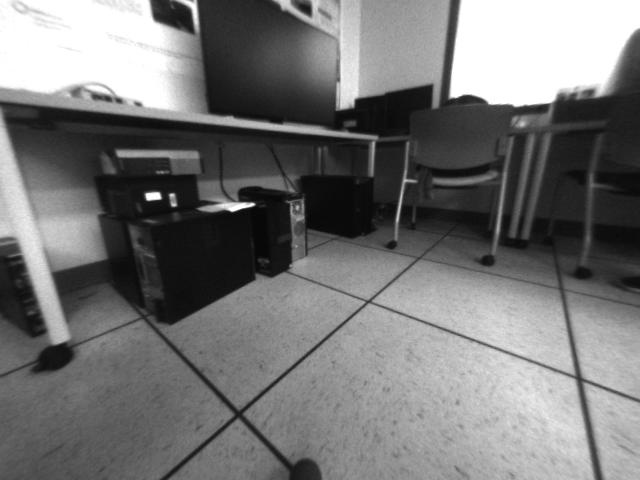dogtoy: (279, 445, 332, 480)
